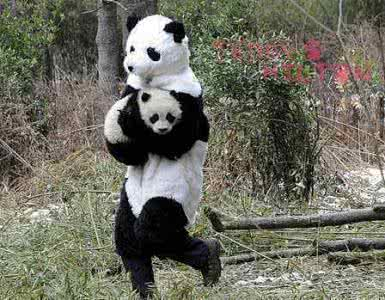panda: (81, 86, 187, 168)
